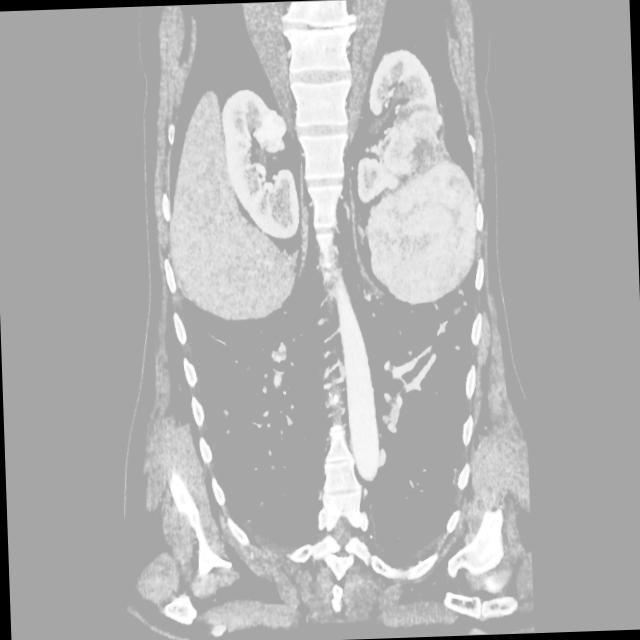TUMOR: (94, 92, 568, 408)
